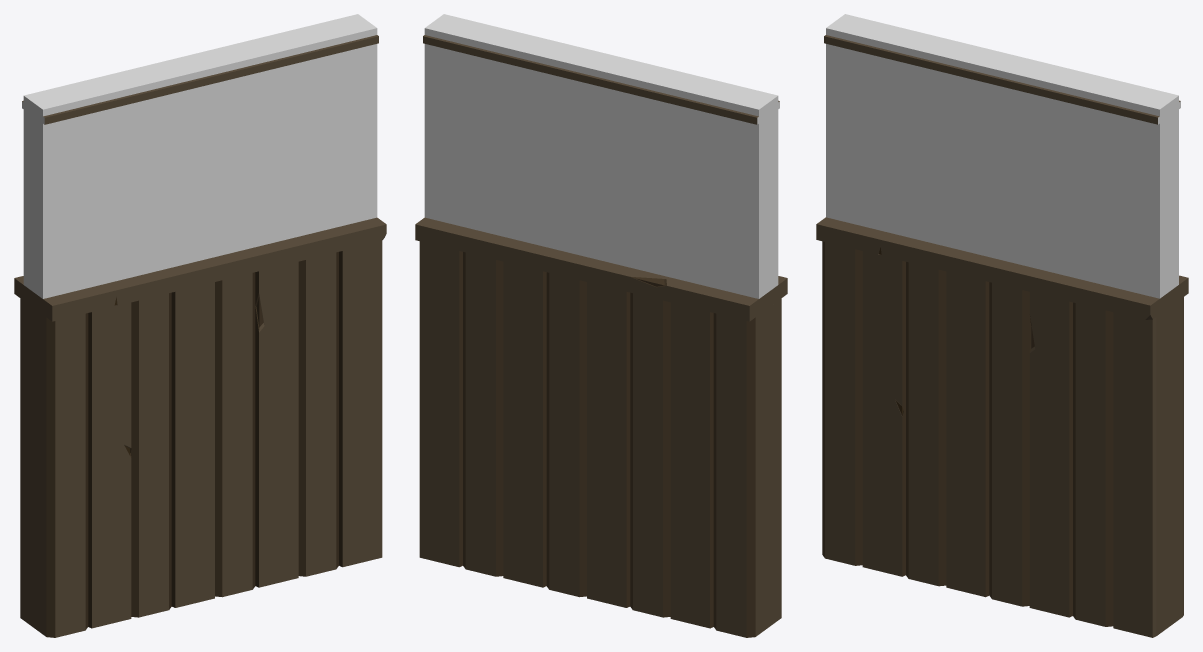
Rendered from Wall_Standard_Alt_2.obj.
3 views of the same model, side by side, from view 1: azimuth 30°, elevation 25°; view 2: azimuth 150°, elevation 25°; view 3: azimuth 330°, elevation 25° (orthographic).
Visible parts, largest first — view 1: Wall_Standard_Alt_2; view 2: Wall_Standard_Alt_2; view 3: Wall_Standard_Alt_2.
Boxes of the visible parts, x1=… form: Wall_Standard_Alt_2: x1=14, y1=14, x2=386, y2=637; Wall_Standard_Alt_2: x1=415, y1=14, x2=787, y2=637; Wall_Standard_Alt_2: x1=816, y1=14, x2=1188, y2=637.
Bounding box in the file's own units: 2 × 3 × 0.3948.
